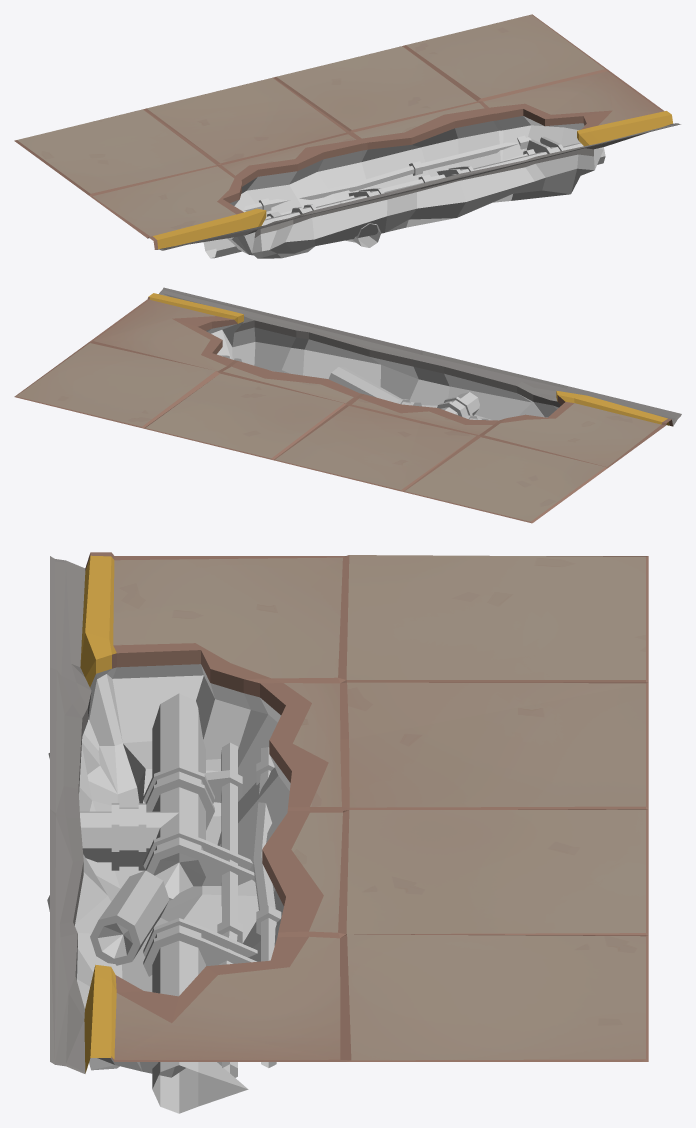
File: SM_Env_Sidewalk_Edge_Damaged_01.fbx
The picture shows the model from 3 angles, top to bottom: view 1: azimuth 30°, elevation 25°; view 2: azimuth 150°, elevation 25°; view 3: azimuth 270°, elevation 25°; orthographic projection. The views are drawn at different scales.
Visible parts, largest first — view 1: SM_Env_Sidewalk_Edge_Damaged_01; view 2: SM_Env_Sidewalk_Edge_Damaged_01; view 3: SM_Env_Sidewalk_Edge_Damaged_01.
Boxes of the visible parts, x1,y1,x2,y2 form: SM_Env_Sidewalk_Edge_Damaged_01: (14, 14, 680, 258); SM_Env_Sidewalk_Edge_Damaged_01: (14, 287, 681, 523); SM_Env_Sidewalk_Edge_Damaged_01: (47, 552, 648, 1113).
Bounding box in the file's own units: 1000 × 110 × 502.
